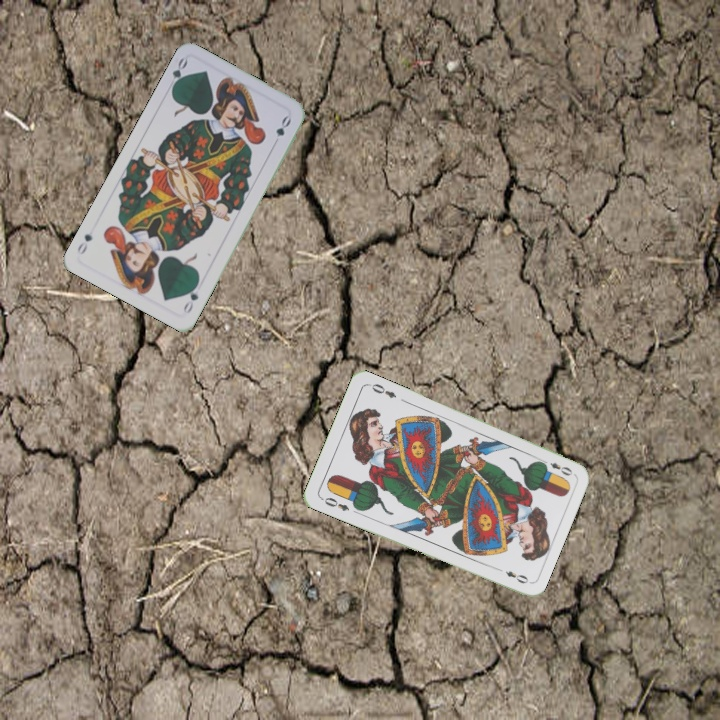EO: (537, 455, 575, 478), (317, 493, 352, 514)
GO: (167, 54, 190, 94), (179, 278, 201, 316)
